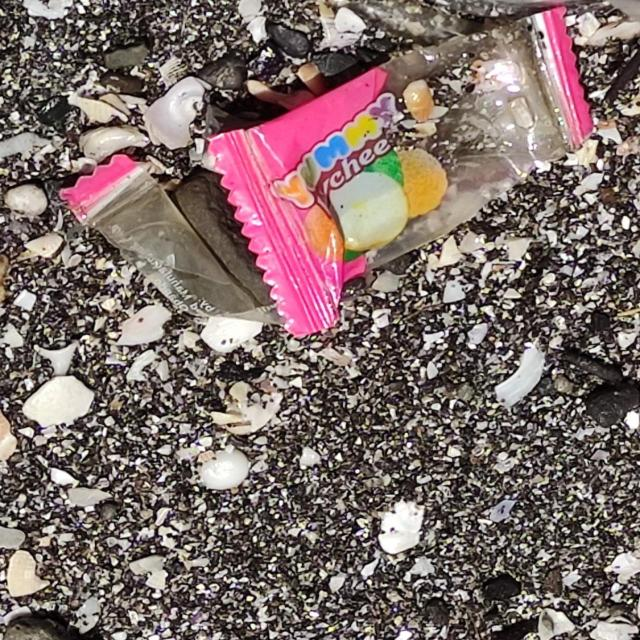plastic_waste: (55, 1, 607, 343)
